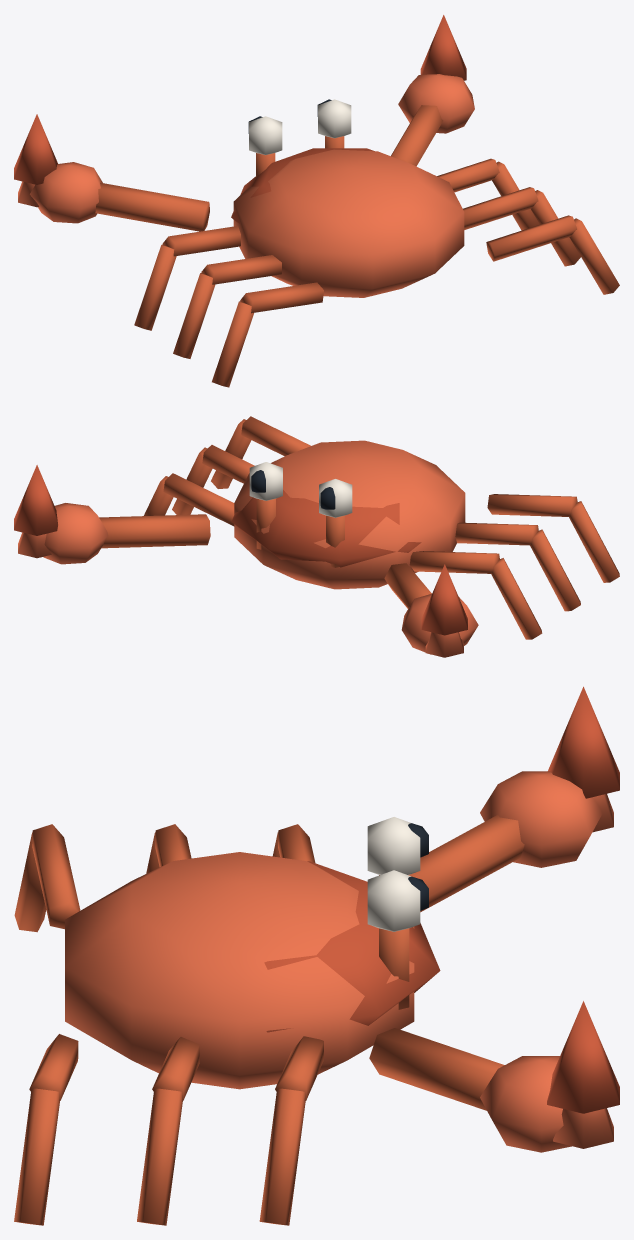
File: xy_beach_crab.glb
3 renders of one model, top to bottom at view 1: azimuth 30°, elevation 25°; view 2: azimuth 150°, elevation 25°; view 3: azimuth 270°, elevation 25°, orthographic. The views are drawn at different scales.
Parts seen in each view (by area): view 1: Body, ClawR, ClawL; view 2: Body, ClawL, ClawR; view 3: Body, ClawL, ClawR.
Part boxes in pixels (x1,y1,x2,y2): Body: (134, 99, 619, 387); ClawR: (14, 114, 209, 231); ClawL: (391, 15, 474, 166); Body: (144, 416, 619, 639); ClawL: (14, 465, 210, 564); ClawR: (384, 563, 478, 657); Body: (14, 817, 440, 1225); ClawL: (369, 1001, 619, 1152); ClawR: (409, 686, 619, 912).
Bounding box in the file's own units: 2.36 × 0.7398 × 1.73.
